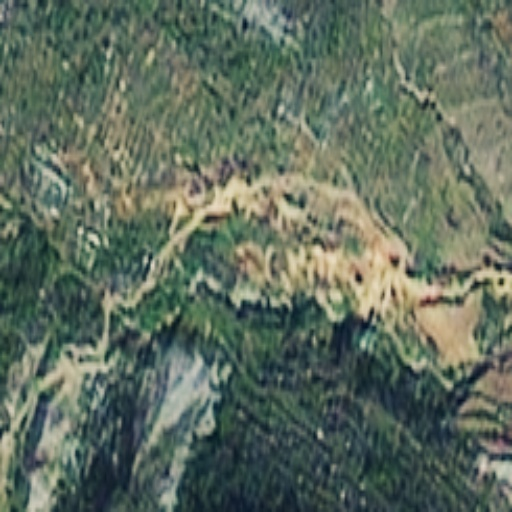landslide: (247, 166, 409, 321)
